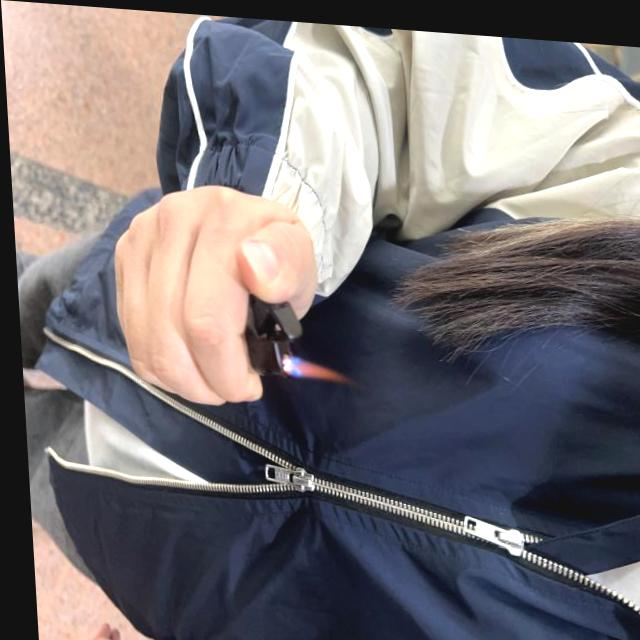helmet: (276, 351, 357, 382)
